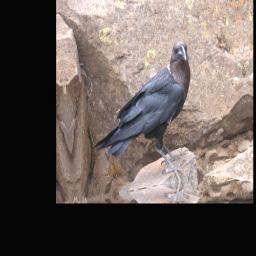Crow: (85, 38, 201, 198)
